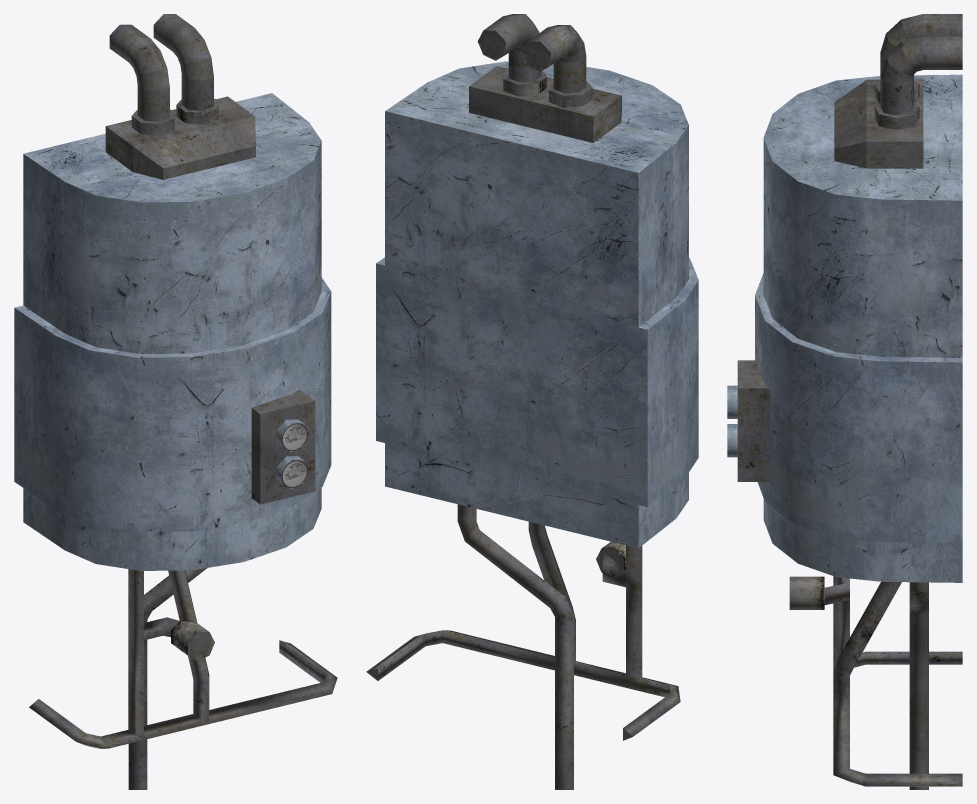
File: M_Home_Garden_Boiler.fbx
The picture shows the model from 3 angles, left to right: view 1: azimuth 30°, elevation 25°; view 2: azimuth 150°, elevation 25°; view 3: azimuth 270°, elevation 25°; orthographic projection. The views are drawn at different scales.
Parts seen in each view (by area): view 1: M_Home_Garden_Boiler; view 2: M_Home_Garden_Boiler; view 3: M_Home_Garden_Boiler.
Part boxes in pixels (x1,y1,x2,y2): M_Home_Garden_Boiler: [14, 14, 337, 789]; M_Home_Garden_Boiler: [366, 14, 698, 789]; M_Home_Garden_Boiler: [727, 14, 962, 789].
Bounding box in the file's own units: 84.99 × 219 × 60.38.
